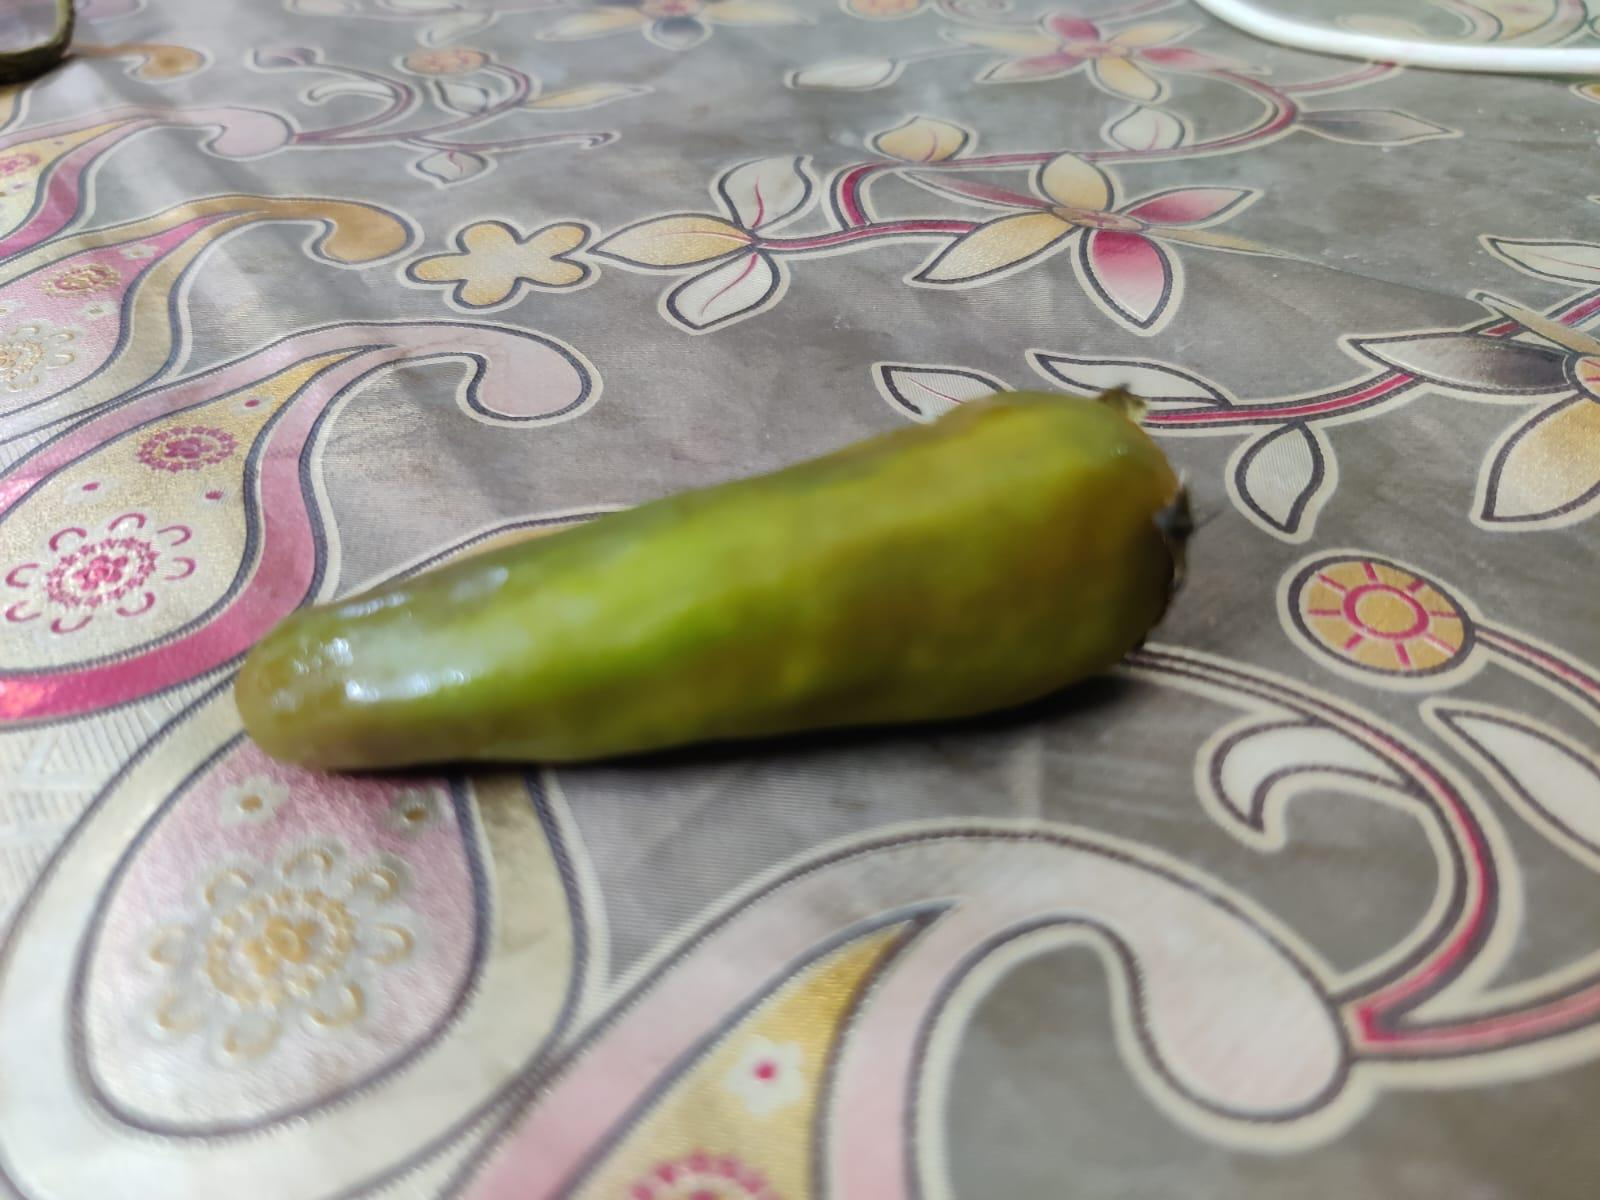non-mango: (231, 392, 1189, 776)
